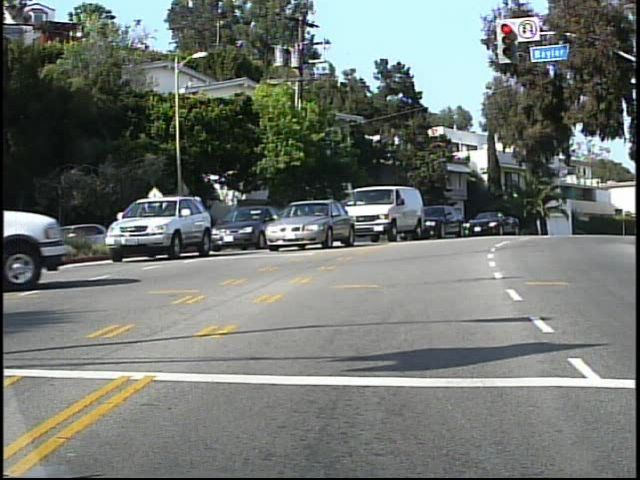car: (108, 198, 204, 257), (263, 192, 351, 251), (348, 184, 425, 238), (212, 195, 268, 249), (420, 185, 464, 235), (465, 210, 515, 233)
strada: (1, 342, 628, 474)
